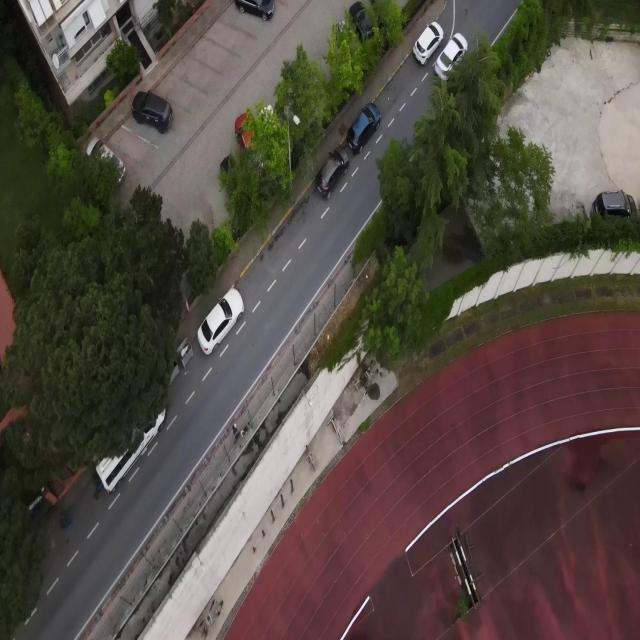p3rson: (232, 423, 241, 445)
